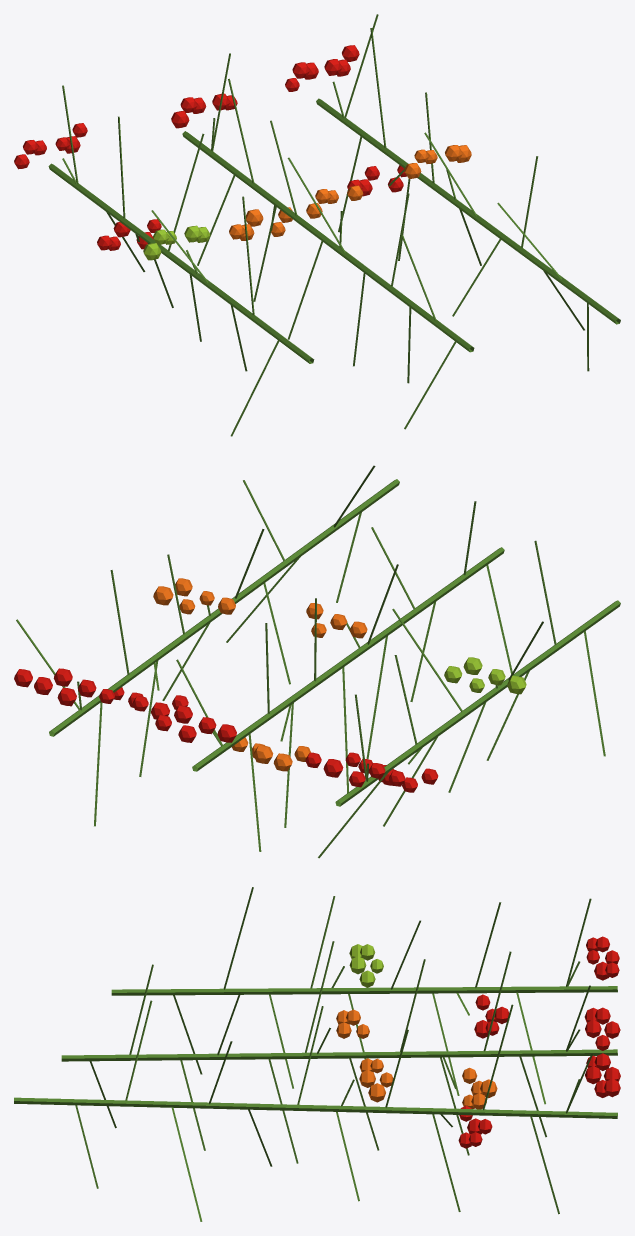
The model's file is r13c5_stems.obj.
The picture shows the model from 3 angles, top to bottom: view 1: azimuth 30°, elevation 25°; view 2: azimuth 150°, elevation 25°; view 3: azimuth 270°, elevation 25°; orthographic projection. The views are drawn at different scales.
Visible parts, largest first — view 1: r13c5_stems; view 2: r13c5_stems; view 3: r13c5_stems.
Part boxes in pixels (<box>): r13c5_stems: <box>14,14,620,436</box>; r13c5_stems: <box>14,465,620,858</box>; r13c5_stems: <box>14,887,620,1221</box>.
Bounding box in the file's own units: 1.52 × 0.8886 × 2.23.
